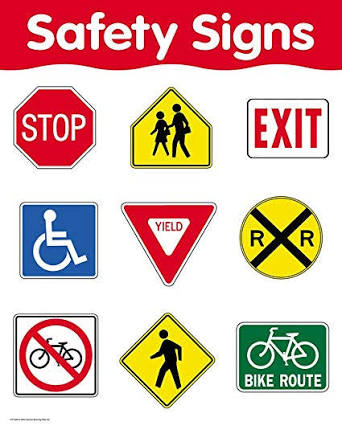slow down: (117, 310, 217, 409), (122, 197, 225, 289), (14, 200, 99, 282)
stop sign: (11, 83, 101, 166)
